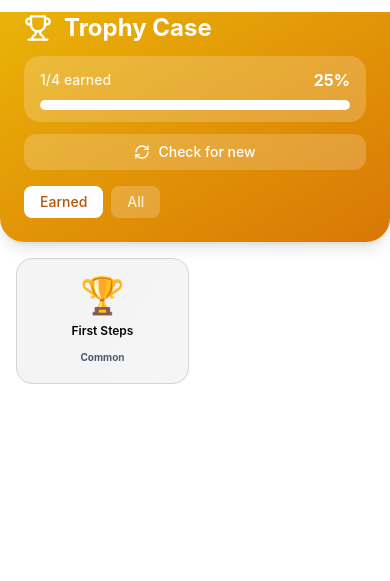
Test: TrophyCase › renders trophy grid with all trophies
// Default tab is 'earned', so click 'All' tab first to see all trophies
Click the tab "All" at (136, 202), box 111,186 -> 160,218
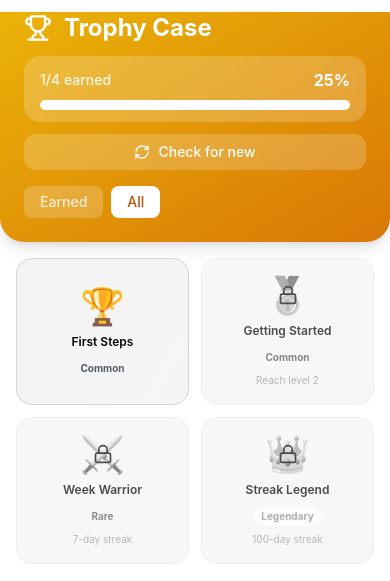
Check: the text "Getting Started" is shown, box 243,323 -> 332,338
Check: the text "Week Warrior" is shown, box 63,482 -> 142,497
Check: the text "Streak Legend" is shown, box 246,482 -> 329,497
